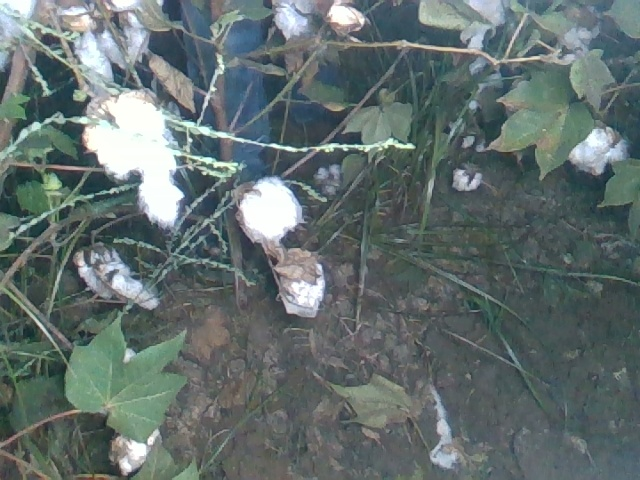cotton: (80, 89, 187, 231), (71, 241, 160, 312), (233, 174, 304, 245), (266, 248, 328, 319), (562, 124, 629, 176), (1, 1, 37, 73), (112, 424, 162, 474), (459, 1, 509, 47), (271, 1, 319, 40), (324, 1, 366, 43), (559, 5, 600, 48), (451, 168, 483, 192)
